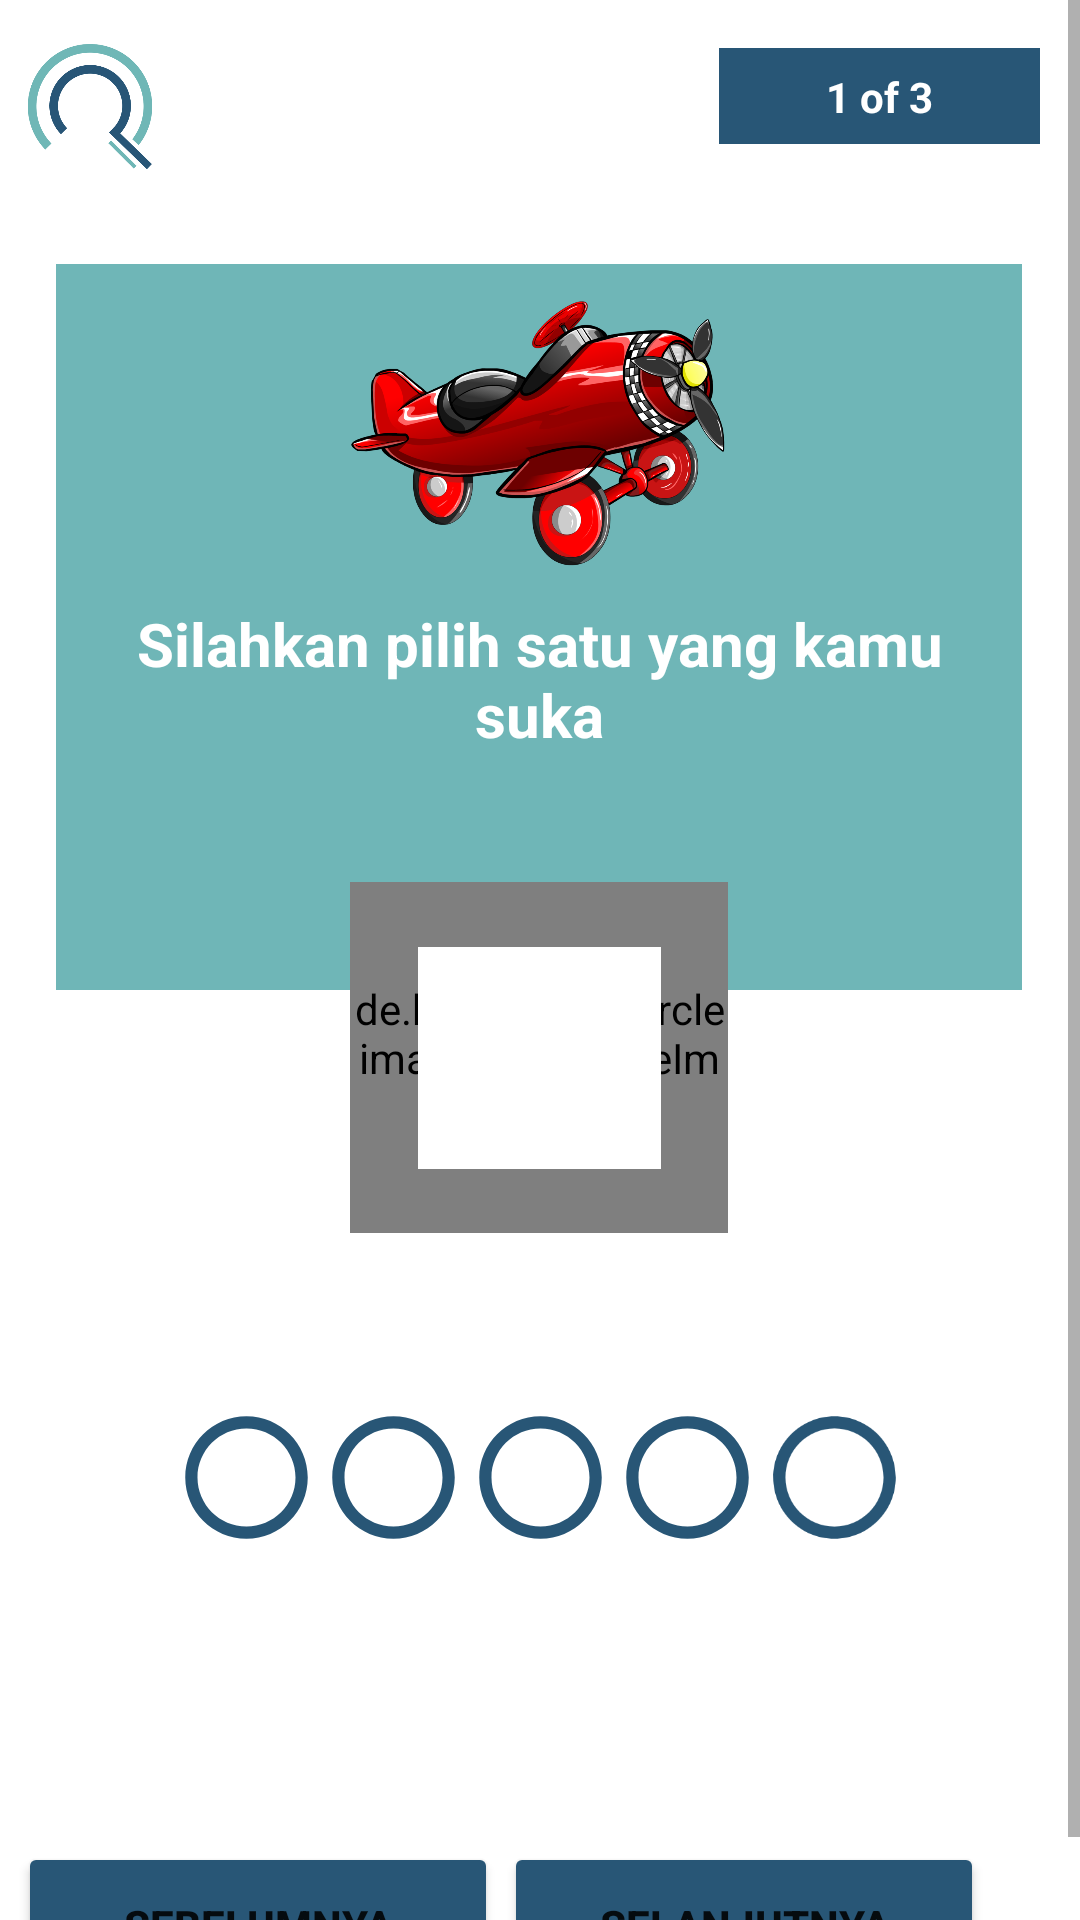

Screen size 1080×1920. Icon name, then its center in pixels as (x=x, y=y):
circle empty: (x=246, y=1477), (x=393, y=1477), (x=540, y=1477), (x=687, y=1477), (x=834, y=1477)
